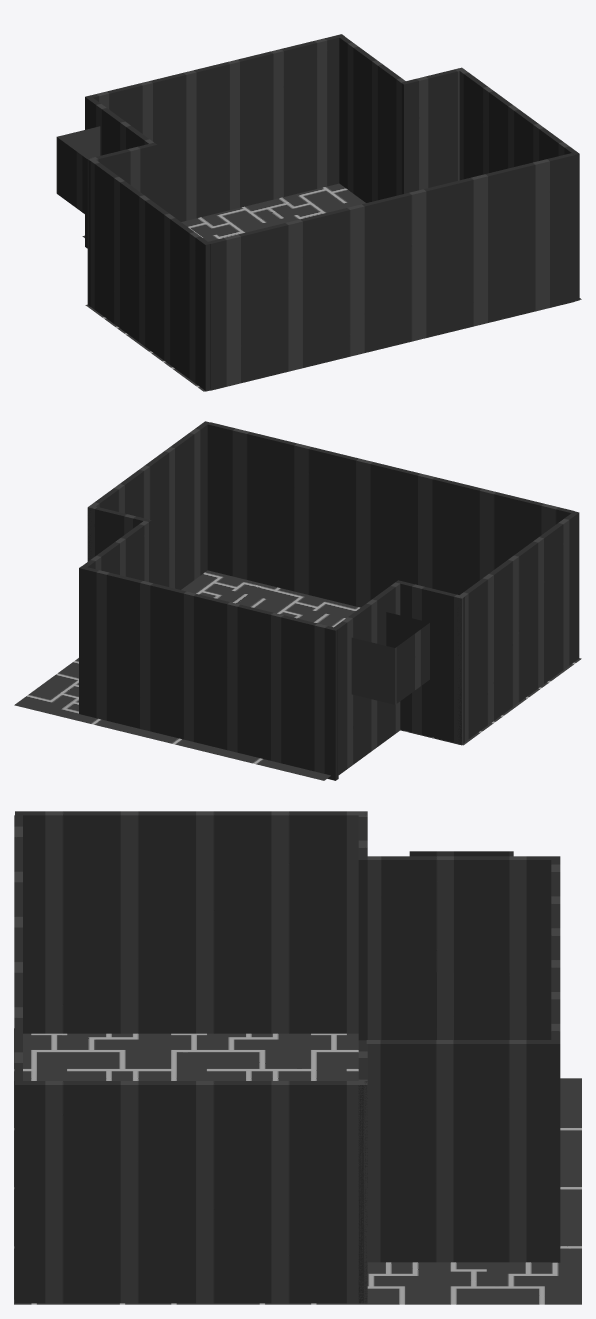
File: waitArena.fbx
3 views of the same model, one above another, from view 1: azimuth 30°, elevation 25°; view 2: azimuth 150°, elevation 25°; view 3: azimuth 270°, elevation 25° (orthographic). The views are drawn at different scales.
Visible parts, largest first — view 1: Cube.009, Cube.006, Cube.005, Cube.008, Cube.010, Cube.007, testStage, Cube.003, Cube.004; view 2: Cube.009, Cube.006, Cube.005, Cube.003, Cube.010, testStage, Cube.004, Cube.008, Cube.007; view 3: Cube.010, Cube.005, Cube.008, Cube.003, testStage, Cube.006, Cube.009, Cube.007, Cube.004.
Part boxes in pixels (x1,y1,x2,y2): Cube.009: [208, 153, 574, 390]; Cube.006: [85, 34, 344, 248]; Cube.005: [88, 158, 210, 391]; Cube.008: [339, 36, 405, 202]; Cube.010: [457, 68, 579, 301]; Cube.007: [401, 67, 464, 194]; testStage: [82, 183, 581, 391]; Cube.003: [56, 96, 153, 245]; Cube.004: [87, 142, 157, 306]; Cube.009: [207, 422, 574, 607]; Cube.006: [79, 566, 338, 780]; Cube.005: [457, 511, 579, 744]; Cube.003: [333, 582, 429, 776]; Cube.010: [87, 421, 209, 589]; testStage: [14, 570, 581, 780]; Cube.004: [395, 580, 464, 745]; Cube.008: [82, 521, 148, 581]; Cube.007: [87, 505, 151, 582]; Cube.010: [15, 1081, 367, 1303]; Cube.005: [15, 811, 366, 1033]; Cube.008: [366, 1040, 554, 1262]; Cube.003: [367, 851, 555, 1039]; testStage: [14, 1028, 581, 1304]; Cube.006: [551, 856, 560, 1262]; Cube.009: [14, 815, 22, 1299]; Cube.007: [358, 1040, 367, 1303]; Cube.004: [358, 811, 367, 1040].
Size of the model in its own units: 14735 by 5606 by 12795.
